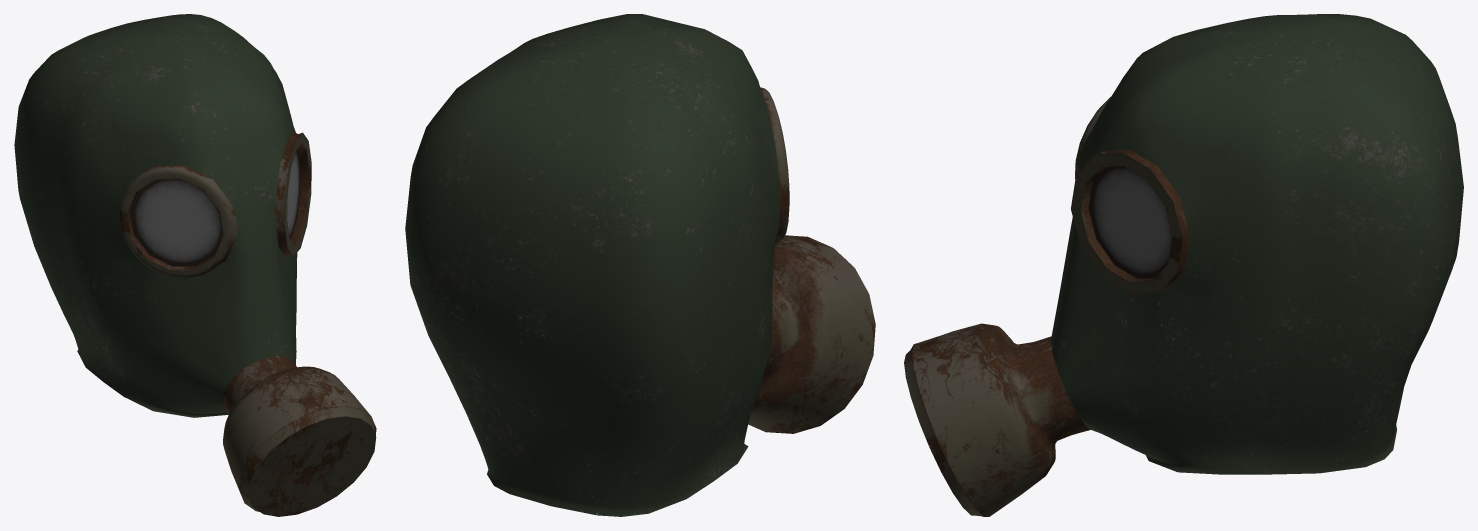
File: low-poly_minimal_gas_mask.glb
3 renders of one model, left to right at view 1: azimuth 30°, elevation 25°; view 2: azimuth 150°, elevation 25°; view 3: azimuth 270°, elevation 25°, orthographic. The views are drawn at different scales.
Parts seen in each view (by area): view 1: sm_GasMask; view 2: sm_GasMask; view 3: sm_GasMask.
Part boxes in pixels (x1,y1,x2,y2): sm_GasMask: (14,14,376,516); sm_GasMask: (405,14,875,516); sm_GasMask: (904,14,1463,516).
Size of the model in its own units: 0.1893 by 0.3105 by 0.3312.
Materials: 1 (1 with a texture image).
